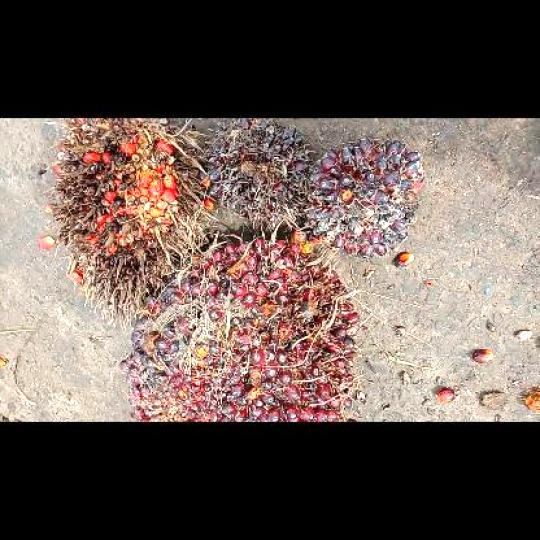masak: (115, 234, 364, 420)
terlalu masak: (43, 118, 214, 326)
